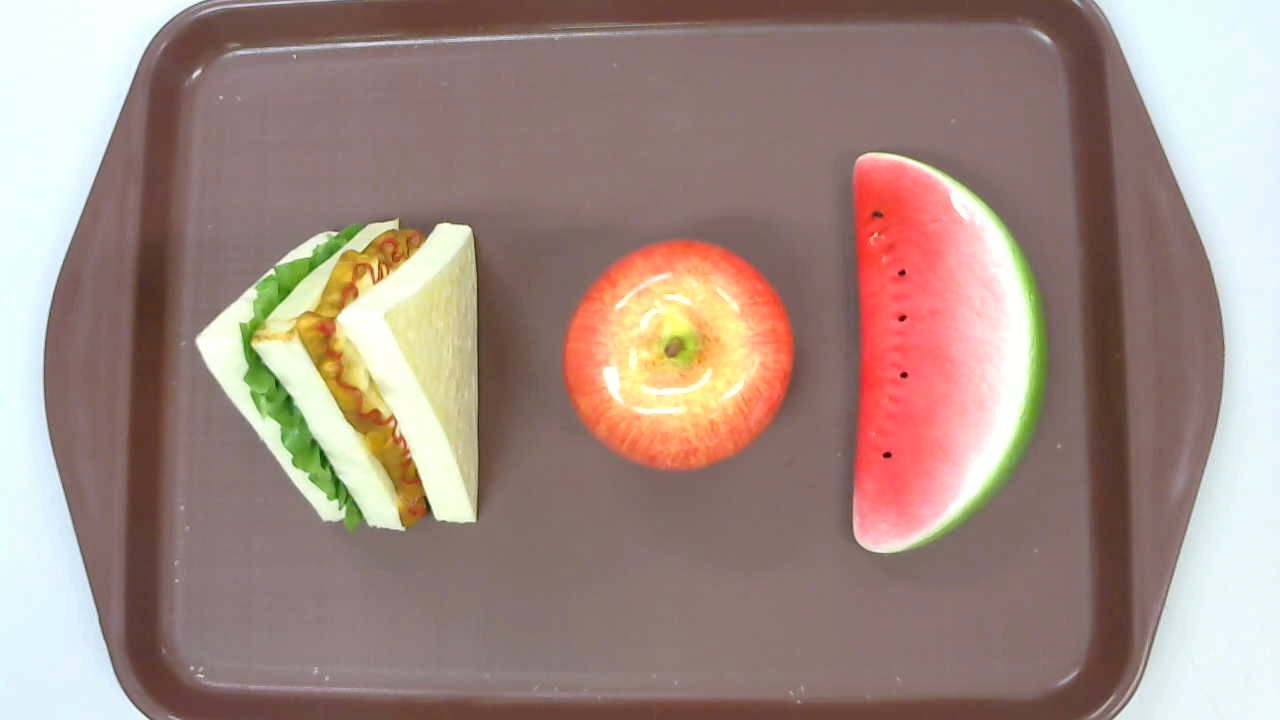red apple: (562, 239, 794, 472)
sandwich: (193, 216, 479, 532)
water melon: (851, 153, 1047, 553)
